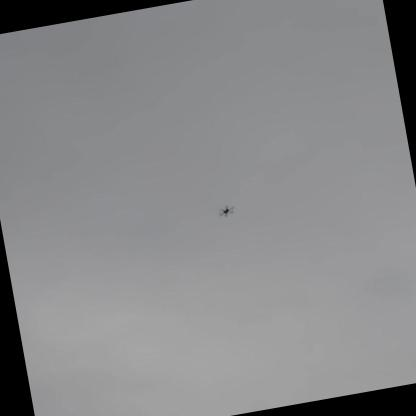drone: (206, 194, 243, 222)
